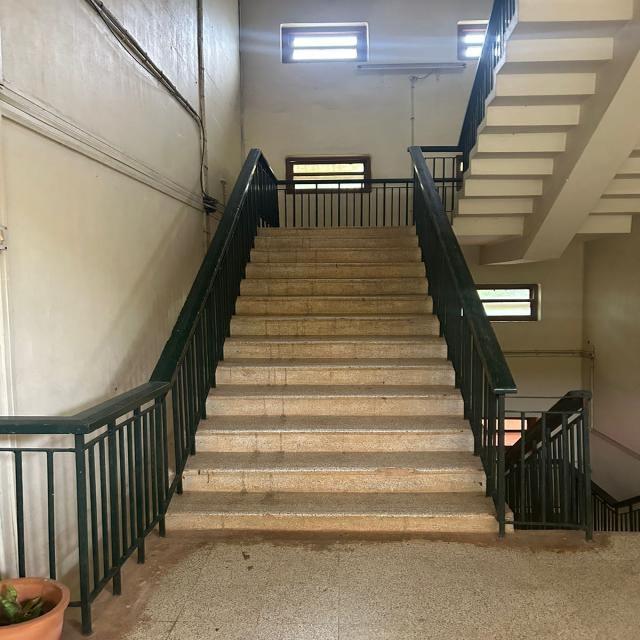stairs ahead at: (167, 225, 494, 533)
